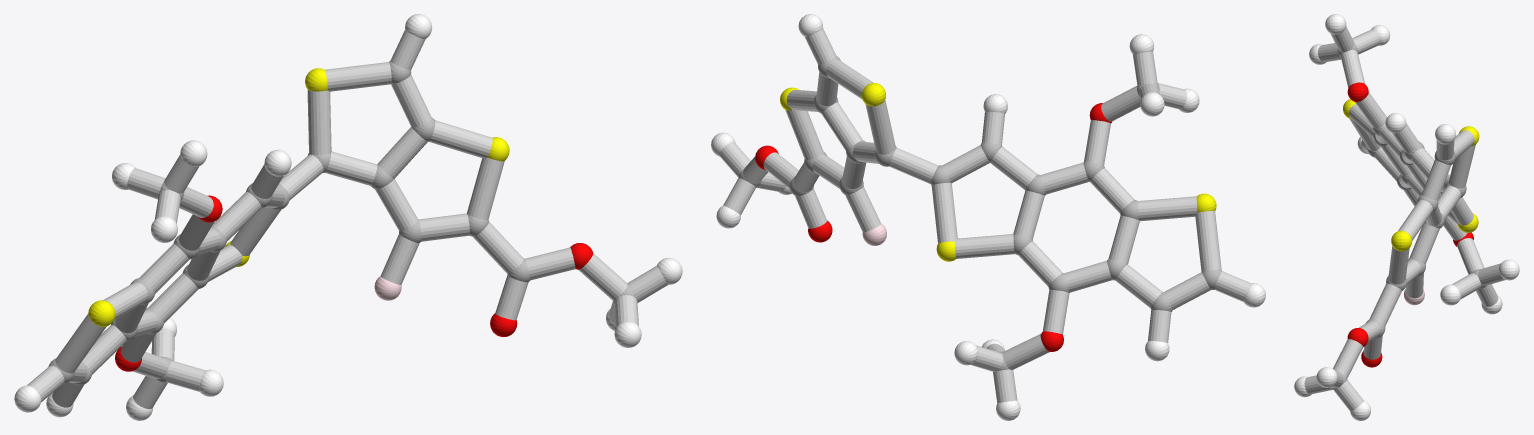
Rendered from color.glb.
3 views of the same model, side by side, from view 1: azimuth 30°, elevation 25°; view 2: azimuth 150°, elevation 25°; view 3: azimuth 270°, elevation 25° (orthographic). The views are drawn at different scales.
Visible parts, largest first — view 1: grp15205, grp8689, grp1, grp7241, grp13395; view 2: grp15205, grp8689, grp1, grp7241, grp13395; view 3: grp15205, grp8689, grp1, grp13395, grp7241.
Boxes of the visible parts, x1,y1,x2,y2 form: grp15205: (27, 29, 667, 408); grp8689: (14, 14, 682, 420); grp1: (48, 61, 637, 385); grp7241: (88, 68, 509, 327); grp13395: (115, 195, 593, 371); grp15205: (719, 28, 1250, 403); grp8689: (711, 14, 1265, 420); grp1: (738, 56, 1222, 370); grp7241: (780, 82, 1216, 261); grp13395: (755, 103, 1111, 351); grp15205: (1304, 26, 1505, 411); grp8689: (1294, 14, 1519, 420); grp1: (1330, 43, 1486, 389); grp13395: (1347, 82, 1473, 367); grp7241: (1343, 99, 1479, 251).
Bounding box in the file's own units: 16.21 × 8.88 × 6.42.
